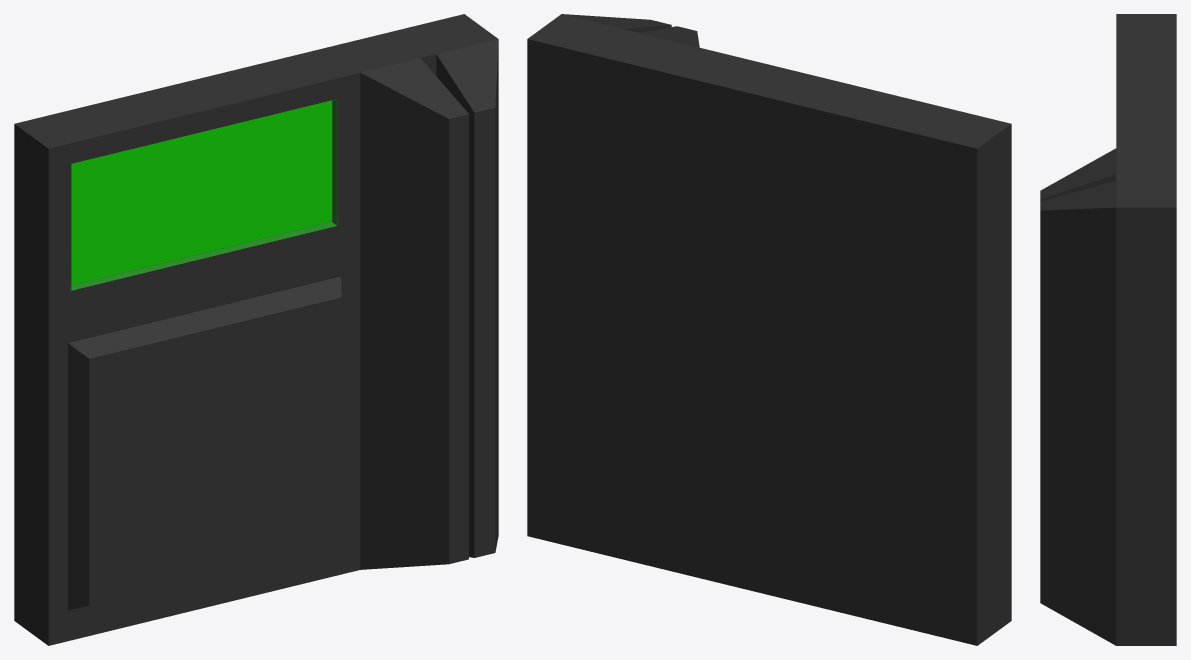
The model's file is ENV_card_reader_v001.fbx.
The picture shows the model from 3 angles, left to right: view 1: azimuth 30°, elevation 25°; view 2: azimuth 150°, elevation 25°; view 3: azimuth 270°, elevation 25°; orthographic projection. The views are drawn at different scales.
Parts seen in each view (by area): view 1: Cube; view 2: Cube; view 3: Cube.
Part boxes in pixels (x1=…): Cube: x1=14, y1=14, x2=498, y2=645; Cube: x1=527, y1=14, x2=1011, y2=645; Cube: x1=1040, y1=14, x2=1176, y2=645.
Size of the model in its own units: 78.96 by 83.38 by 23.45.
1 material, 1 textured.
